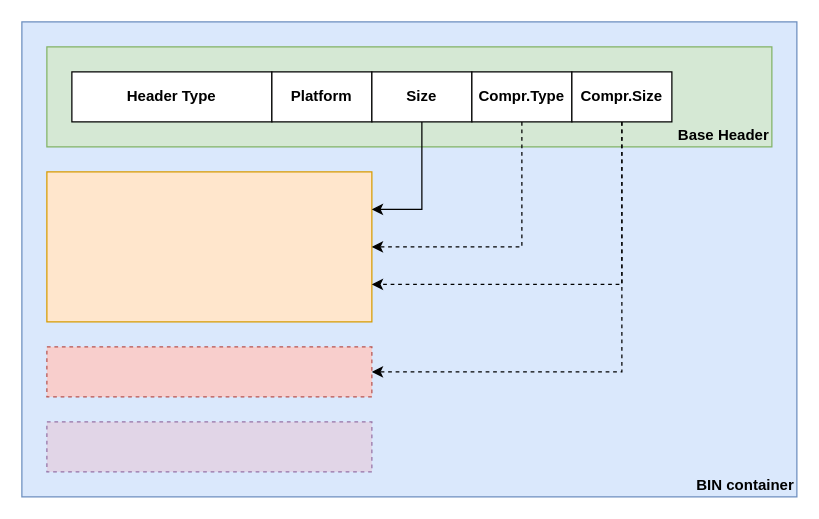
The diagram is 819 pixels wide and 519 high, and some of its shapes have lost their labels. The centre of each missing label's shape, as x and y in pixels:
"Additional unknown data" goes at point (209, 446).
"Checksum" goes at point (209, 371).
"Data" goes at point (209, 246).
